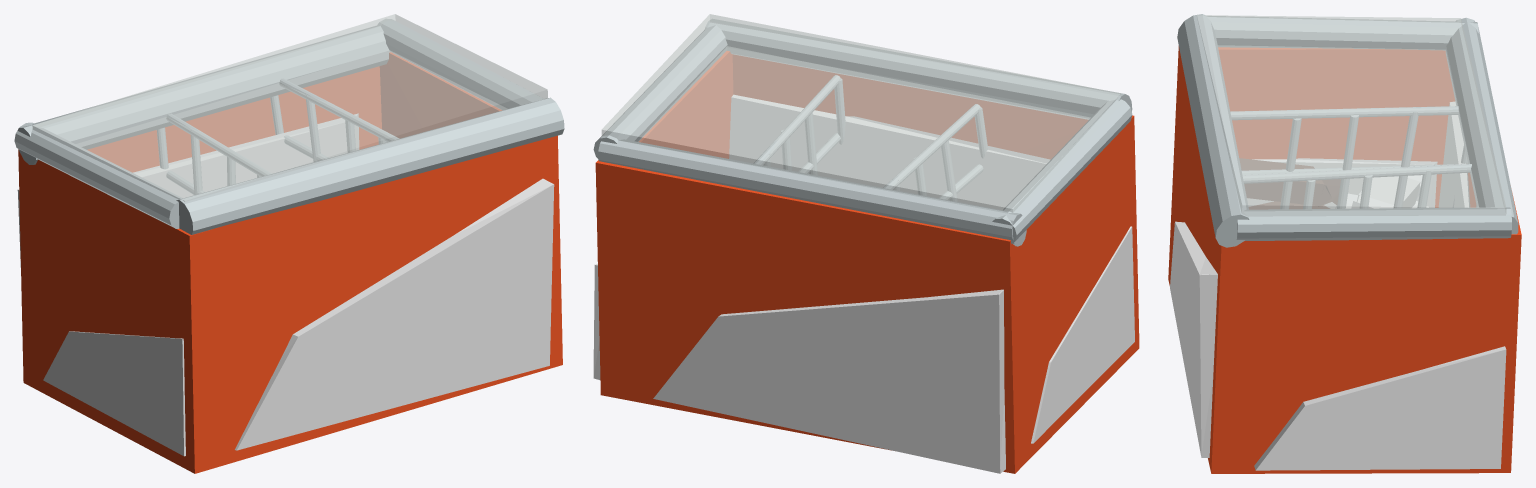
Rendered from Freezer.obj.
3 renders of one model, left to right at view 1: azimuth 30°, elevation 25°; view 2: azimuth 150°, elevation 25°; view 3: azimuth 270°, elevation 25°, orthographic.
Visible parts, largest first — view 1: group2101732898, group194331909, group820418982, group159907434, group1418186329, group707457859, group1983638583, group1429854998, group1481143554, group226825526, group1270614440; view 2: group2101732898, group194331909, group1983638583, group820418982, group159907434, group1418186329, group707457859, group1429854998, group1481143554, group226825526, group1270614440, group1047216654; view 3: group2101732898, group194331909, group1047216654, group1481143554, group159907434, group1429854998, group1418186329, group820418982, group1270614440, group226825526, group2027658475, group1983638583 (+2 smaller).
Part boxes in pixels (x1,y1,x2,y2): group2101732898: (18, 52, 562, 473); group194331909: (32, 14, 547, 201); group820418982: (235, 178, 554, 450); group159907434: (176, 97, 564, 234); group1418186329: (17, 26, 389, 164); group707457859: (43, 331, 185, 456); group1983638583: (17, 113, 358, 267); group1429854998: (14, 122, 182, 228); group1481143554: (377, 19, 543, 109); group226825526: (270, 78, 398, 161); group1270614440: (157, 113, 271, 194); group2101732898: (595, 51, 1139, 473); group194331909: (601, 14, 1120, 212); group1983638583: (653, 289, 1005, 473); group820418982: (729, 95, 1049, 209); group159907434: (705, 19, 1132, 119); group1418186329: (598, 139, 1026, 246); group707457859: (1031, 226, 1134, 443); group1429854998: (992, 99, 1132, 244); group1481143554: (593, 25, 727, 158); group226825526: (753, 75, 845, 175); group1270614440: (883, 104, 987, 201); group1047216654: (593, 263, 600, 379); group2101732898: (1168, 46, 1521, 473); group194331909: (1197, 15, 1506, 216); group1047216654: (1254, 346, 1506, 470); group1481143554: (1236, 207, 1511, 240); group159907434: (1177, 14, 1249, 247); group1429854998: (1207, 16, 1478, 50); group1418186329: (1446, 17, 1518, 234); group820418982: (1170, 221, 1217, 457); group1270614440: (1230, 106, 1467, 208); group226825526: (1243, 164, 1476, 208); group2027658475: (1239, 158, 1340, 206); group1983638583: (1439, 102, 1469, 207).
Size of the model in its own units: 1.13 by 0.6877 by 0.7872.
